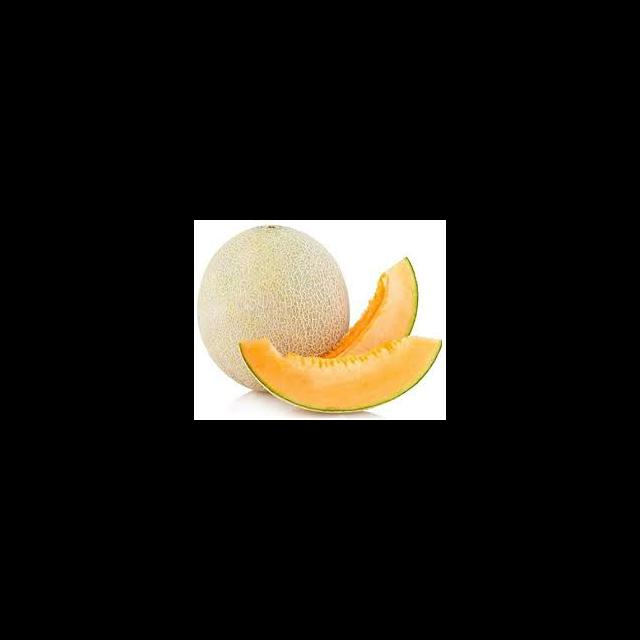Hami Melon: (198, 225, 350, 391), (238, 337, 442, 413)
